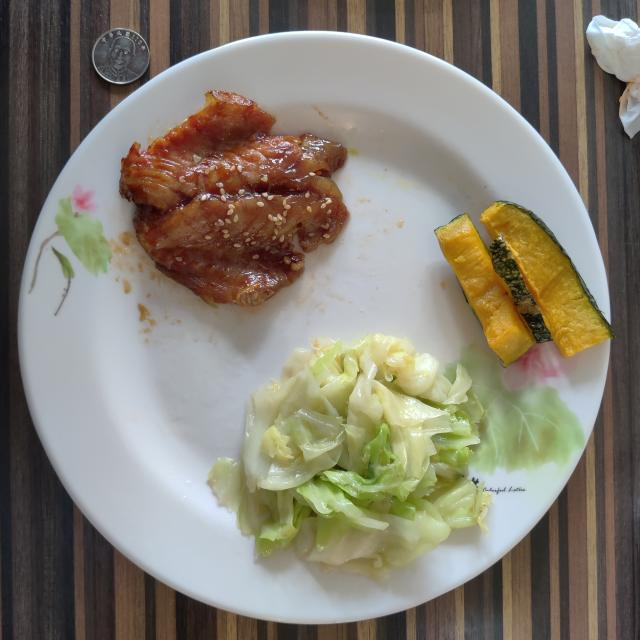Kabayaki sea bream fillet: (120, 91, 349, 305)
cabbage: (209, 334, 491, 580)
coin: (92, 28, 150, 84)
pumpkin: (435, 201, 614, 366)
